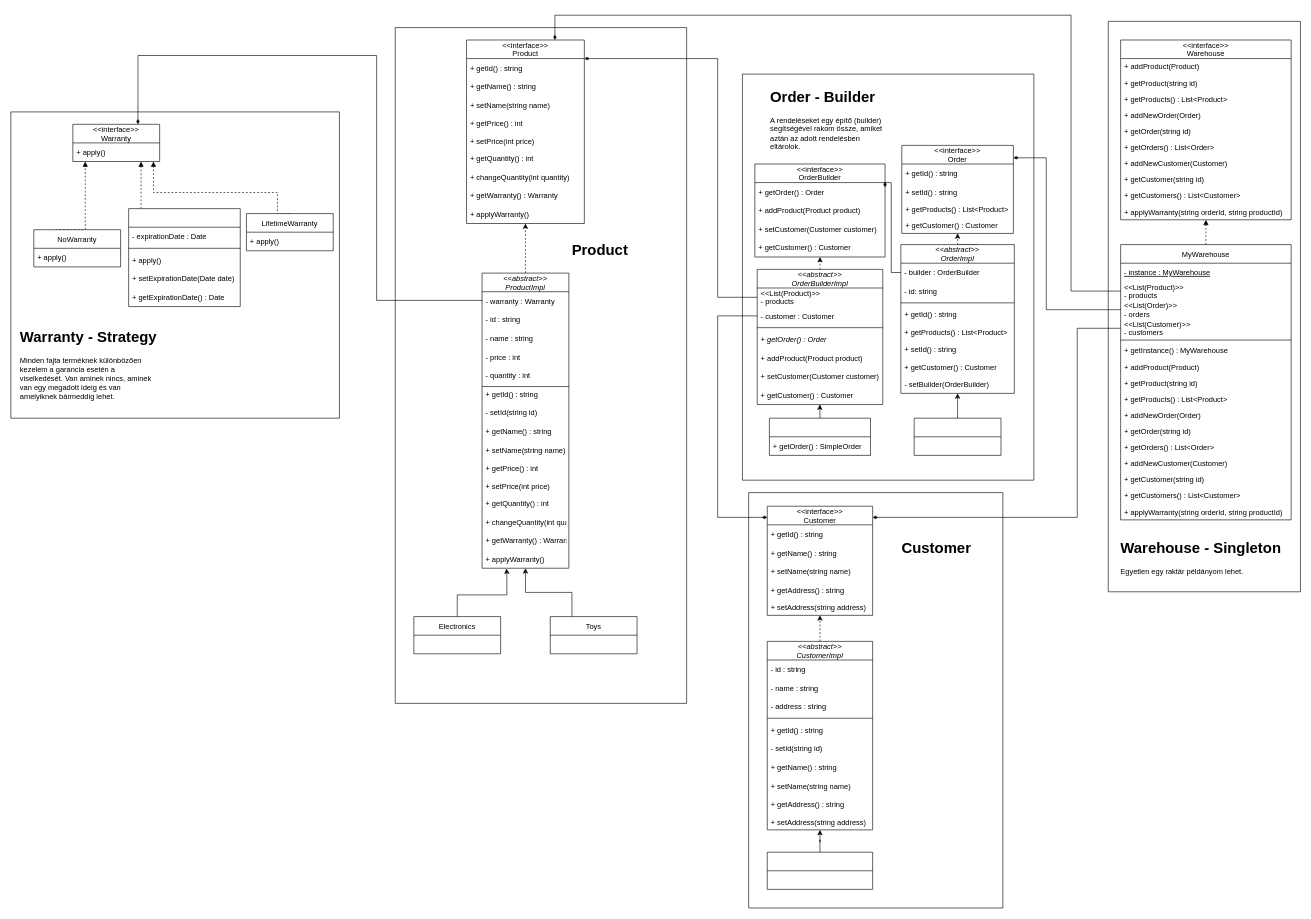
Image size: 1311x919. Some labels were removed from this diagram. The shapes that lost their labels are listed below. From the top down, each one's box as (x1, y1, x2, y2) in pixels, then its label:
(128, 208, 240, 307): ForPeriodWarranty
(769, 418, 870, 455): OrderImplBuilder
(914, 418, 1001, 455): SimpleOrder
(767, 852, 873, 889): SimpleCustomer
